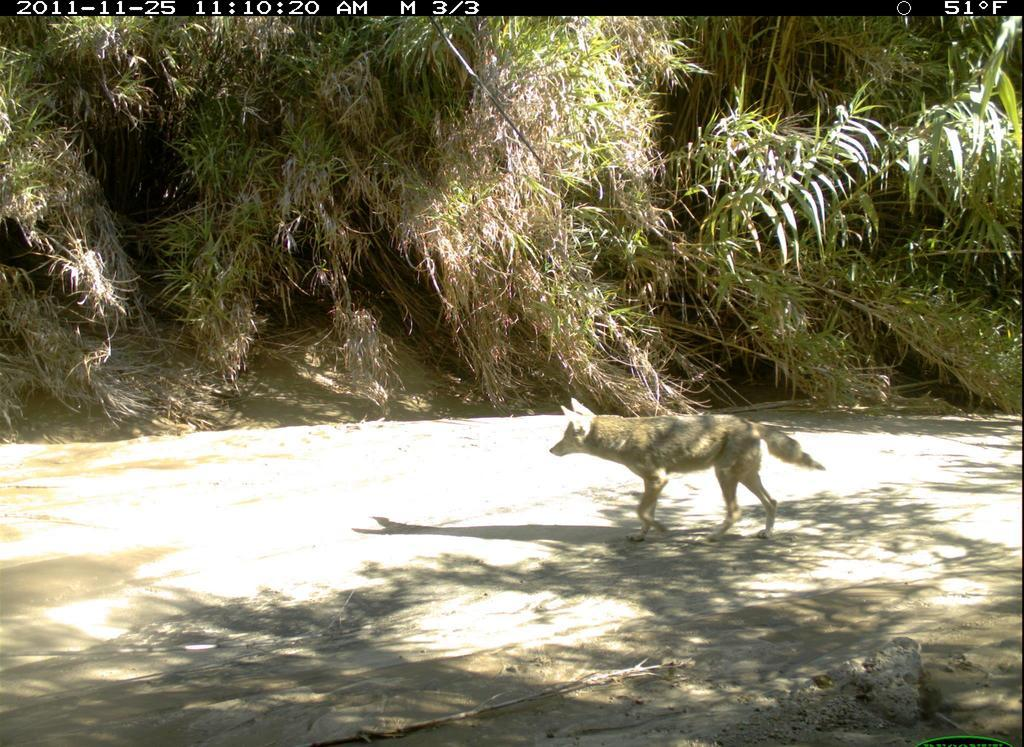coyote: (545, 395, 827, 550)
